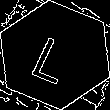L_NE: (28, 26, 82, 84)
